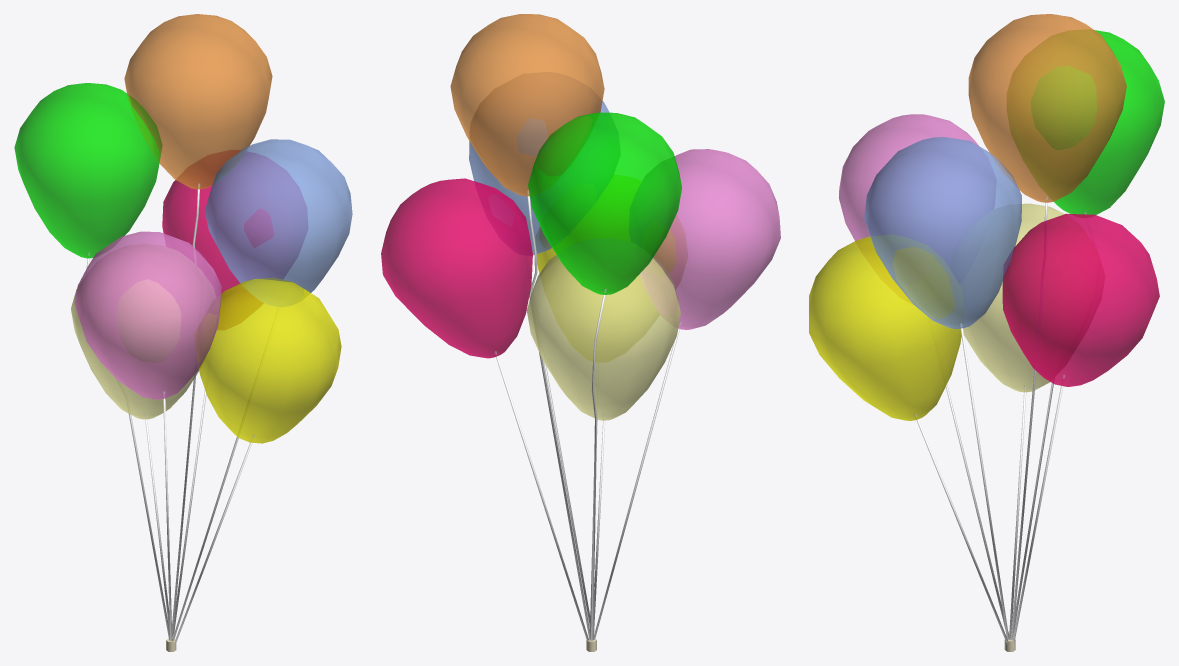
File: Balloons2.fbx
3 views of the same model, side by side, from view 1: azimuth 30°, elevation 25°; view 2: azimuth 150°, elevation 25°; view 3: azimuth 270°, elevation 25° (orthographic). The views are drawn at different scales.
Parts seen in each view (by area): view 1: Sphere.065; view 2: Sphere.065; view 3: Sphere.065.
Boxes of the visible parts, x1,y1,x2,y2 form: Sphere.065: [14, 14, 352, 651]; Sphere.065: [381, 14, 780, 651]; Sphere.065: [809, 14, 1164, 651].
Size of the model in its own units: 69.68 by 140 by 69.
